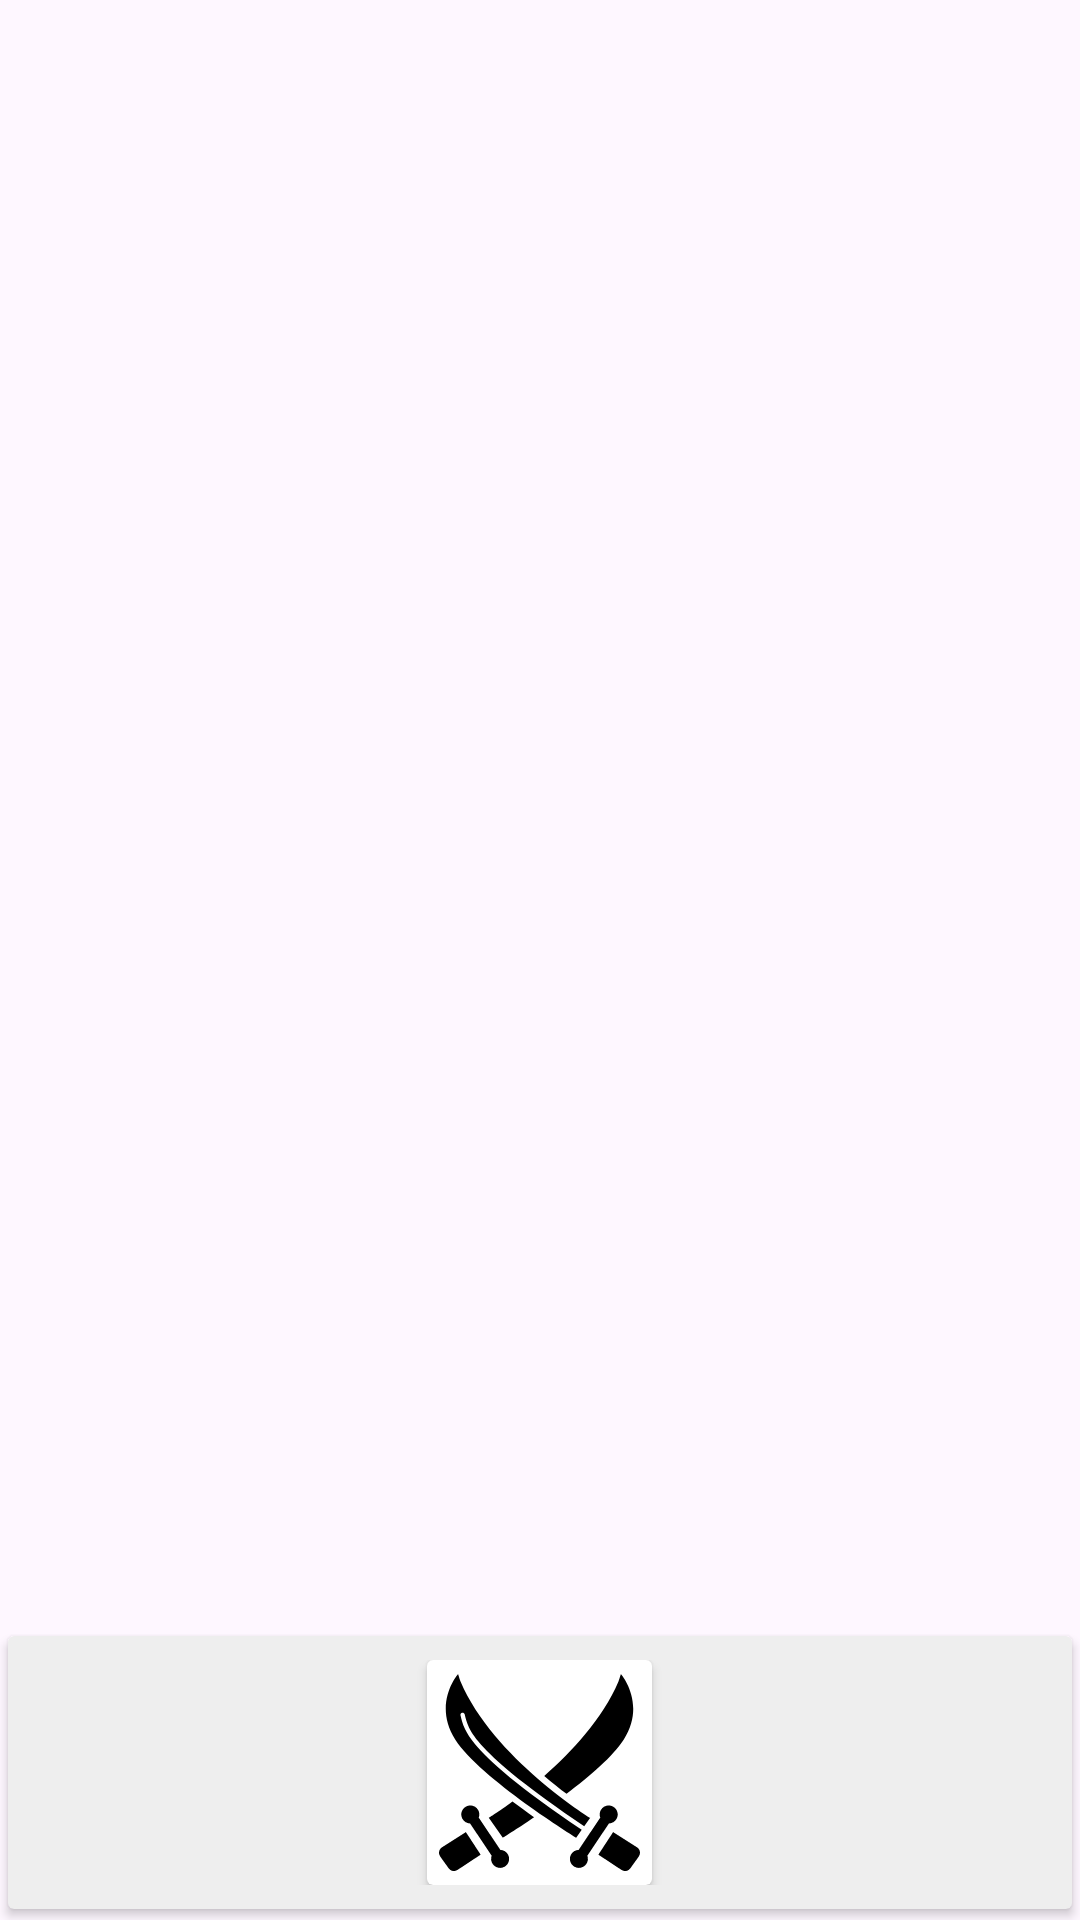

Where icons sit on this 1080×1920 app screen, as bbox=[x1, y1, x2, y2]:
battle: bbox=[439, 1674, 640, 1871]
